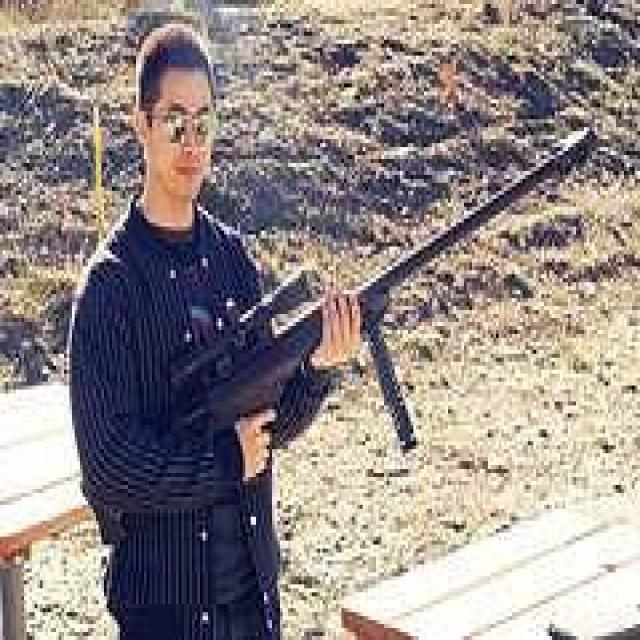RifleTel: (151, 121, 604, 504)
